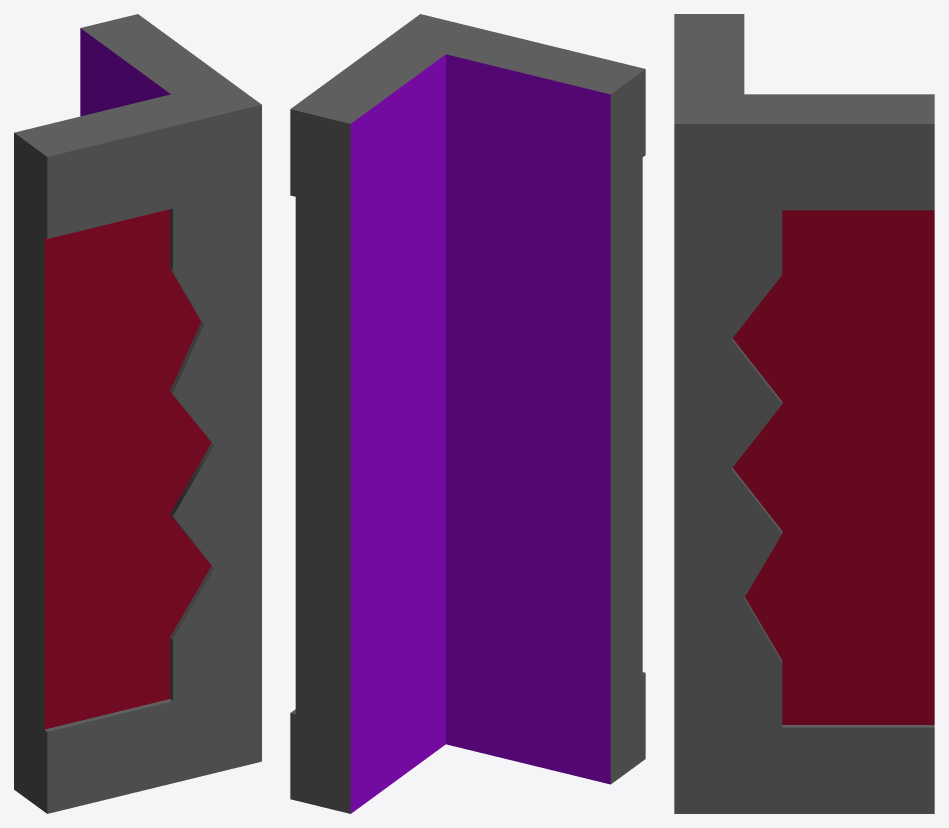
Rendered from Wall_Corner_X_1x3.fbx.
3 renders of one model, left to right at view 1: azimuth 30°, elevation 25°; view 2: azimuth 150°, elevation 25°; view 3: azimuth 270°, elevation 25°, orthographic. The views are drawn at different scales.
Parts seen in each view (by area): view 1: Wall_Corner_1x4; view 2: Wall_Corner_1x4; view 3: Wall_Corner_1x4.
Boxes of the visible parts, x1=… form: Wall_Corner_1x4: x1=14, y1=14, x2=261, y2=813; Wall_Corner_1x4: x1=290, y1=14, x2=645, y2=813; Wall_Corner_1x4: x1=674, y1=14, x2=934, y2=813.
Size of the model in its own units: 1.02 by 3 by 1.03.
